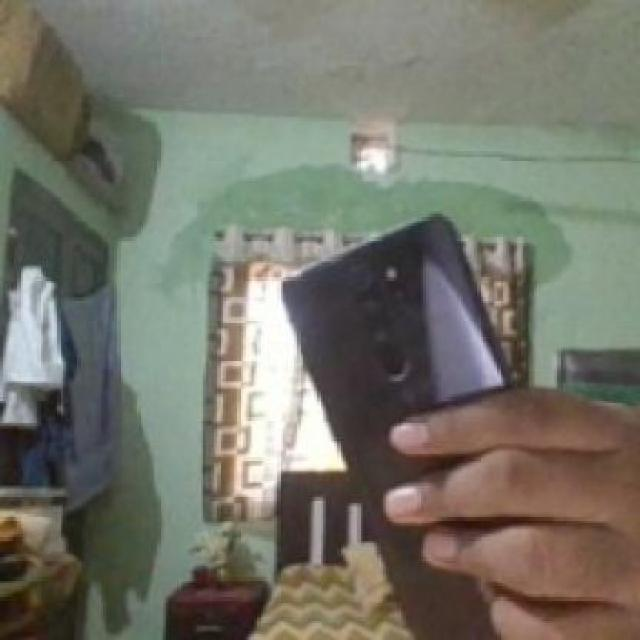Phone: (275, 209, 520, 640)
